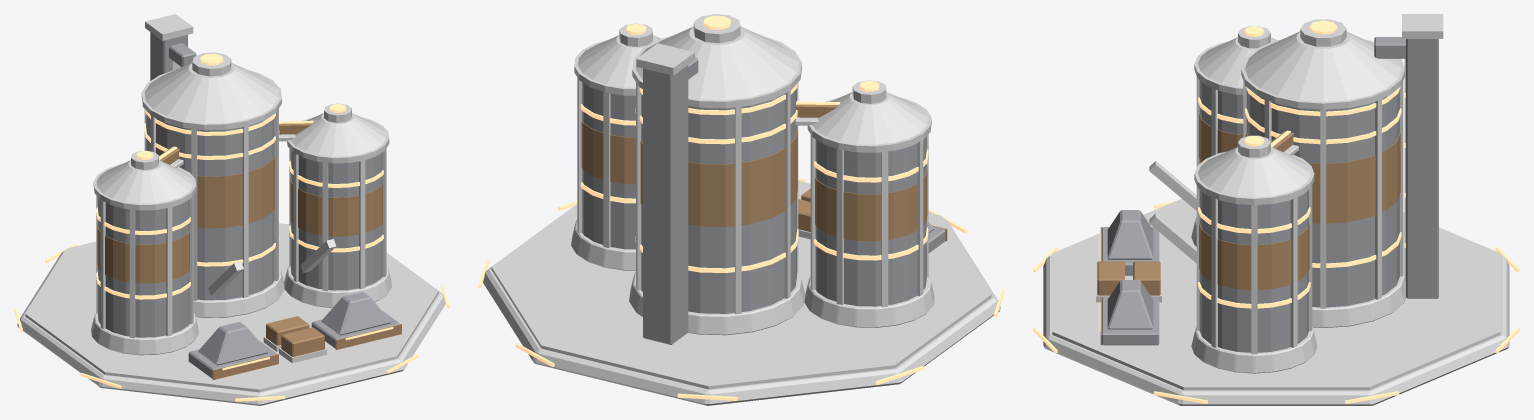
The model's file is sb_silo_t2.glb.
The picture shows the model from 3 angles, left to right: view 1: azimuth 30°, elevation 25°; view 2: azimuth 150°, elevation 25°; view 3: azimuth 270°, elevation 25°; orthographic projection. The views are drawn at different scales.
Parts seen in each view (by area): view 1: SM_SL_PLINTH_TOP, SM_SL_MAIN_RIBS, SM_SL_MAIN_BODY, SM_SL_L_RIBS, SM_SL_R_RIBS, SM_SL_PLINTH, SM_SL_L_BODY, SM_SL_R_BODY, SM_SL_GLOW, SM_SL_MAIN_TINT, SM_SL_L_TINT, SM_SL_R_TINT (+14 smaller); view 2: SM_SL_PLINTH_TOP, SM_SL_MAIN_BODY, SM_SL_MAIN_RIBS, SM_SL_ELEV, SM_SL_L_RIBS, SM_SL_PLINTH, SM_SL_L_BODY, SM_SL_MAIN_TINT, SM_SL_GLOW, SM_SL_R_RIBS, SM_SL_R_BODY, SM_SL_L_TINT (+6 smaller); view 3: SM_SL_PLINTH_TOP, SM_SL_MAIN_RIBS, SM_SL_MAIN_BODY, SM_SL_R_RIBS, SM_SL_ELEV, SM_SL_PLINTH, SM_SL_R_BODY, SM_SL_GLOW, SM_SL_MAIN_TINT, SM_SL_R_TINT, SM_SL_L_RIBS, SM_SL_HOPPER_6 (+9 smaller).
Part boxes in pixels (bbox=[...]): SM_SL_PLINTH_TOP: bbox=[25, 223, 438, 392]; SM_SL_MAIN_RIBS: bbox=[141, 52, 281, 300]; SM_SL_MAIN_BODY: bbox=[146, 114, 274, 300]; SM_SL_L_RIBS: bbox=[93, 150, 196, 338]; SM_SL_R_RIBS: bbox=[287, 103, 389, 291]; SM_SL_PLINTH: bbox=[17, 251, 445, 405]; SM_SL_L_BODY: bbox=[98, 197, 189, 337]; SM_SL_R_BODY: bbox=[290, 150, 382, 290]; SM_SL_GLOW: bbox=[14, 53, 449, 401]; SM_SL_MAIN_TINT: bbox=[145, 145, 274, 228]; SM_SL_L_TINT: bbox=[97, 222, 189, 283]; SM_SL_R_TINT: bbox=[290, 175, 382, 236]; SM_SL_PLINTH_TOP: bbox=[491, 181, 991, 389]; SM_SL_MAIN_BODY: bbox=[641, 88, 796, 313]; SM_SL_MAIN_RIBS: bbox=[632, 14, 801, 314]; SM_SL_ELEV: bbox=[643, 57, 698, 344]; SM_SL_L_RIBS: bbox=[807, 80, 931, 307]; SM_SL_PLINTH: bbox=[483, 218, 1000, 405]; SM_SL_L_BODY: bbox=[815, 137, 926, 306]; SM_SL_MAIN_TINT: bbox=[640, 126, 797, 226]; SM_SL_GLOW: bbox=[478, 15, 1004, 400]; SM_SL_R_RIBS: bbox=[574, 23, 661, 247]; SM_SL_R_BODY: bbox=[582, 82, 635, 249]; SM_SL_L_TINT: bbox=[815, 167, 927, 241]; SM_SL_PLINTH_TOP: bbox=[1052, 198, 1500, 390]; SM_SL_MAIN_RIBS: bbox=[1241, 19, 1404, 308]; SM_SL_MAIN_BODY: bbox=[1246, 89, 1399, 307]; SM_SL_R_RIBS: bbox=[1194, 135, 1314, 354]; SM_SL_ELEV: bbox=[1374, 37, 1438, 298]; SM_SL_PLINTH: bbox=[1043, 255, 1509, 405]; SM_SL_R_BODY: bbox=[1199, 190, 1308, 352]; SM_SL_GLOW: bbox=[1033, 20, 1519, 404]; SM_SL_MAIN_TINT: bbox=[1246, 132, 1400, 223]; SM_SL_R_TINT: bbox=[1199, 223, 1309, 290]; SM_SL_L_RIBS: bbox=[1194, 26, 1277, 166]; SM_SL_HOPPER_6: bbox=[1102, 280, 1159, 345].
Bounding box in the file's own units: 35.33 × 22.85 × 35.33.
